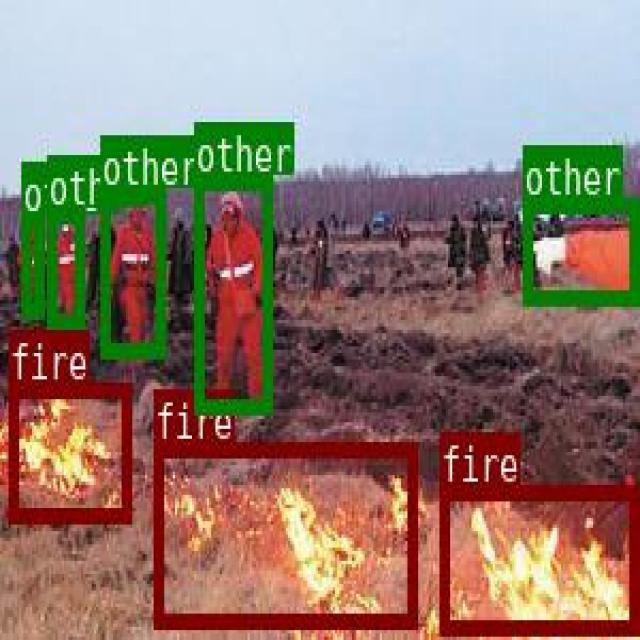fire: (152, 439, 414, 625), (439, 482, 636, 630), (7, 382, 129, 520)
